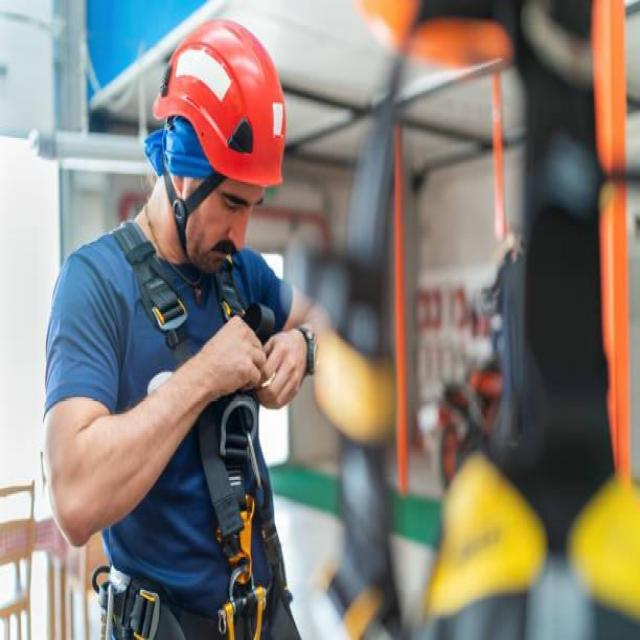belt: (98, 216, 289, 636)
